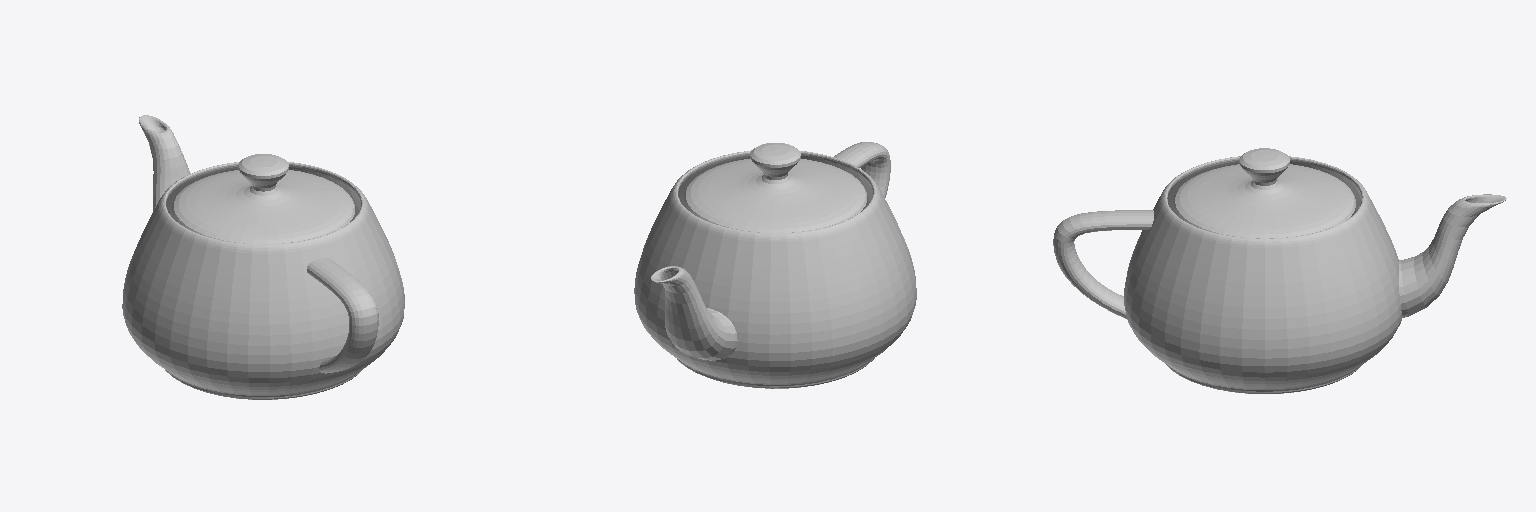
The model's file is teapot.obj.
3 renders of one model, left to right at view 1: azimuth 30°, elevation 25°; view 2: azimuth 150°, elevation 25°; view 3: azimuth 270°, elevation 25°, orthographic.
Visible parts, largest first — view 1: Mesh1, Mesh2, Mesh3, Mesh4; view 2: Mesh1, Mesh2, Mesh4, Mesh3; view 3: Mesh1, Mesh2, Mesh4, Mesh3.
Part boxes in pixels (x1,y1,x2,y2): Mesh1: (122, 162, 404, 399); Mesh2: (172, 154, 354, 243); Mesh3: (307, 258, 378, 373); Mesh4: (139, 115, 190, 210); Mesh1: (634, 150, 916, 388); Mesh2: (684, 143, 866, 232); Mesh4: (651, 266, 737, 360); Mesh3: (834, 142, 890, 197); Mesh1: (1124, 156, 1402, 393); Mesh2: (1173, 148, 1355, 238); Mesh4: (1399, 194, 1506, 317); Mesh3: (1053, 210, 1153, 318).
Bounding box in the file's own units: 2 × 1.57 × 3.22.